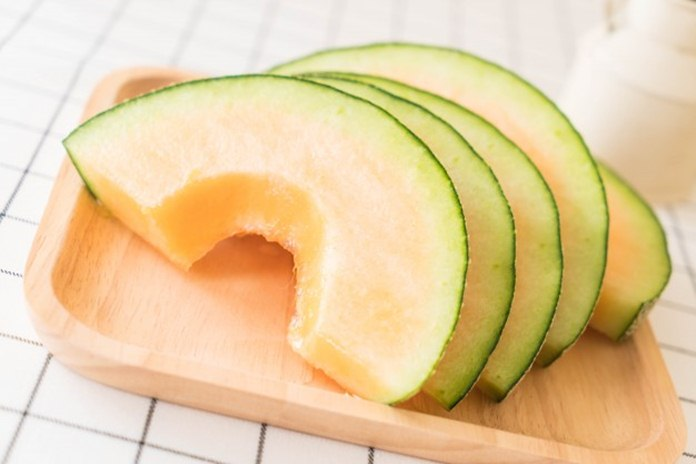Melon: (40, 122, 461, 399)
